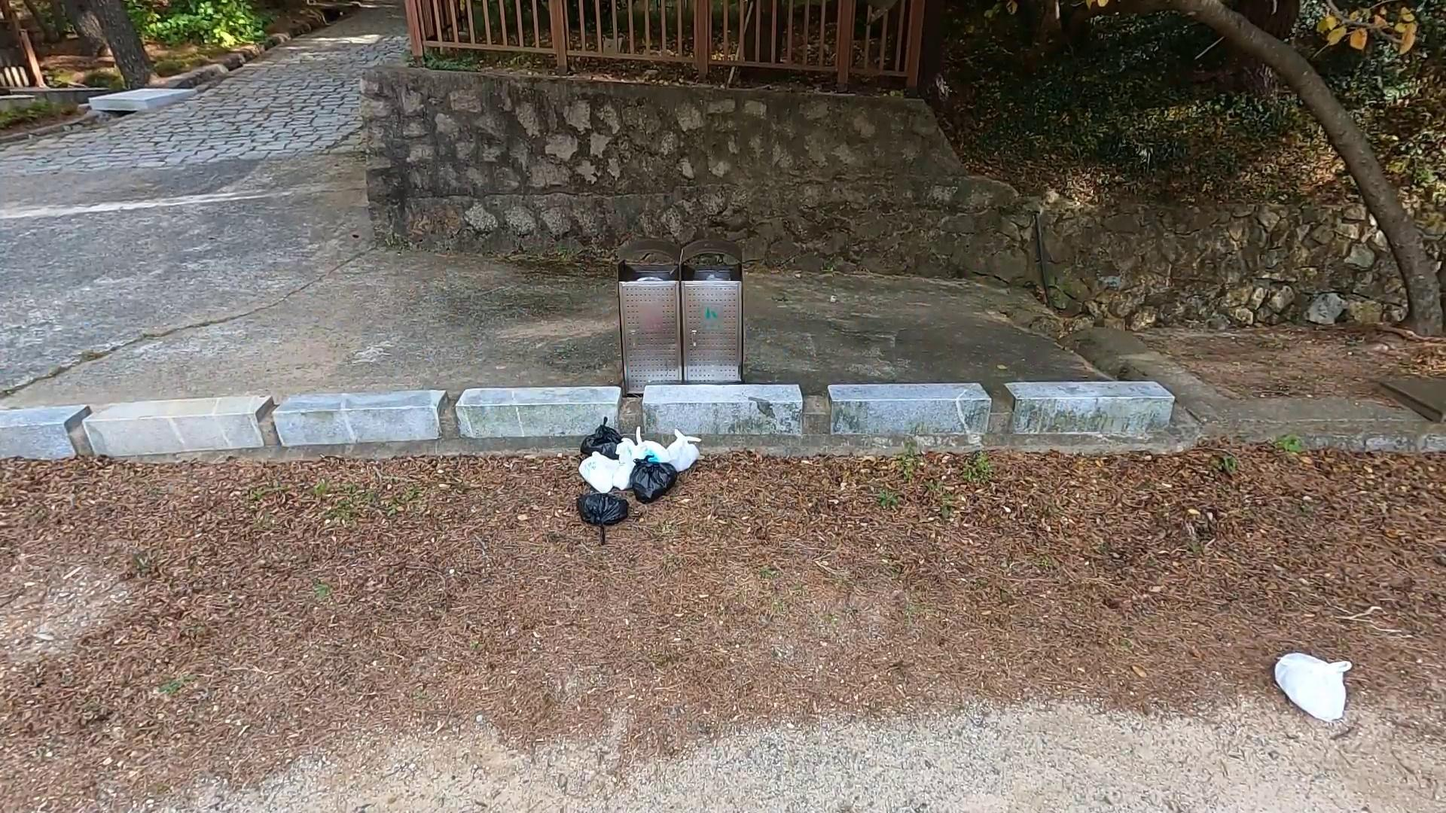trash: (1264, 642, 1357, 735), (572, 493, 632, 545), (572, 415, 625, 465), (631, 457, 679, 506), (622, 430, 670, 473), (577, 447, 614, 497), (662, 429, 700, 473), (608, 453, 636, 490)
